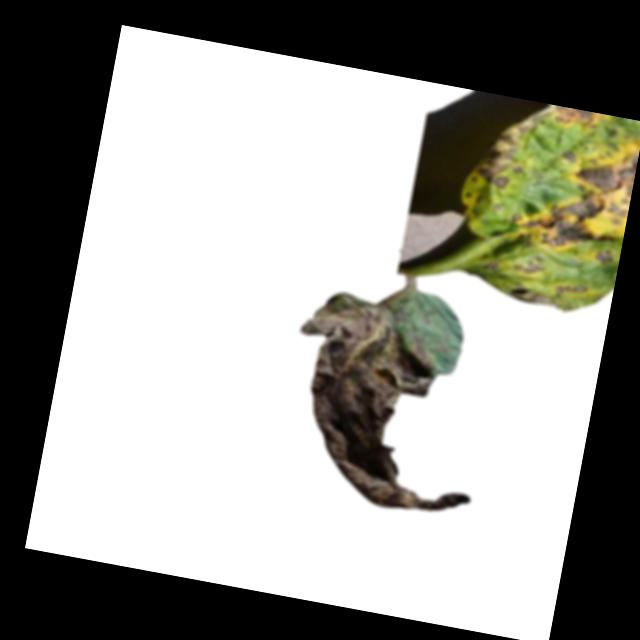Early_blight: (277, 288, 504, 521), (506, 130, 637, 268), (473, 106, 538, 192), (520, 273, 586, 314), (549, 105, 608, 133), (513, 257, 543, 277)
